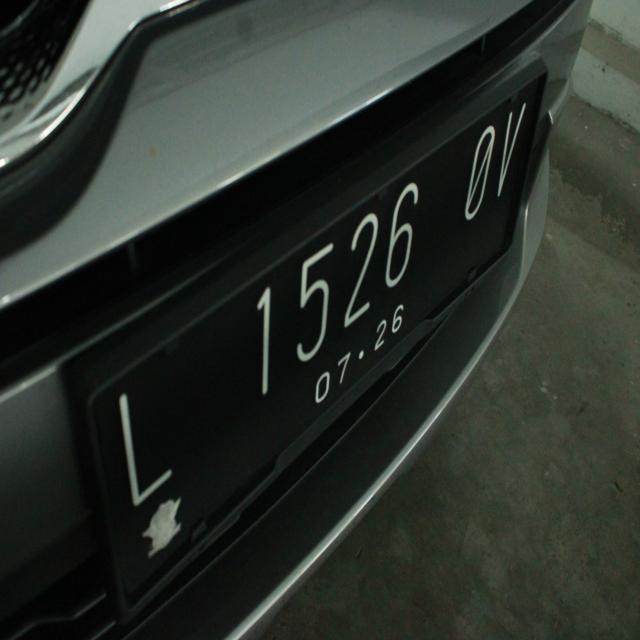1: (238, 280, 282, 406)
2: (338, 206, 378, 326)
5: (291, 241, 332, 357)
6: (381, 173, 421, 300)
L: (103, 387, 184, 503)
O: (452, 119, 505, 231)
V: (494, 101, 526, 205)
